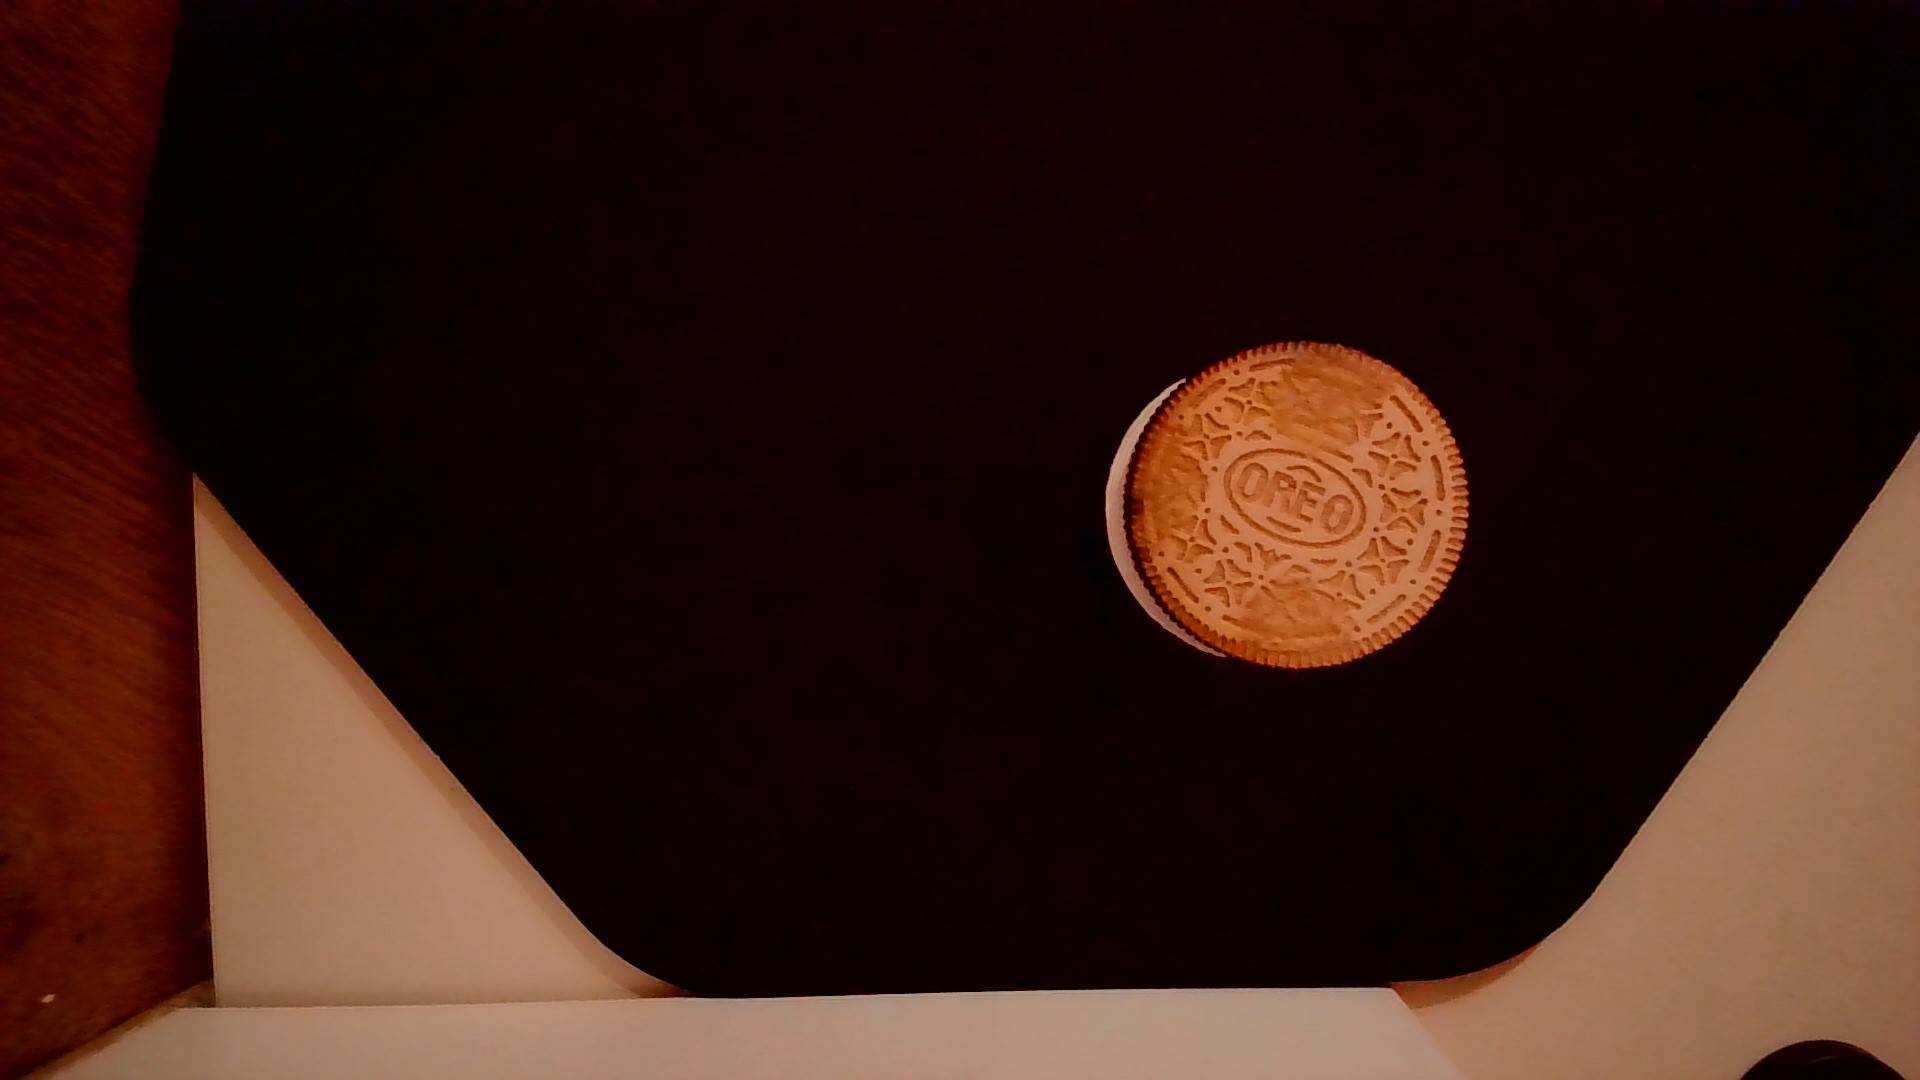Décalé: (1098, 372, 1244, 657)
Effacé: (1269, 348, 1390, 446), (1130, 438, 1195, 558), (1255, 595, 1356, 659)
Oréo: (1097, 334, 1478, 679)
